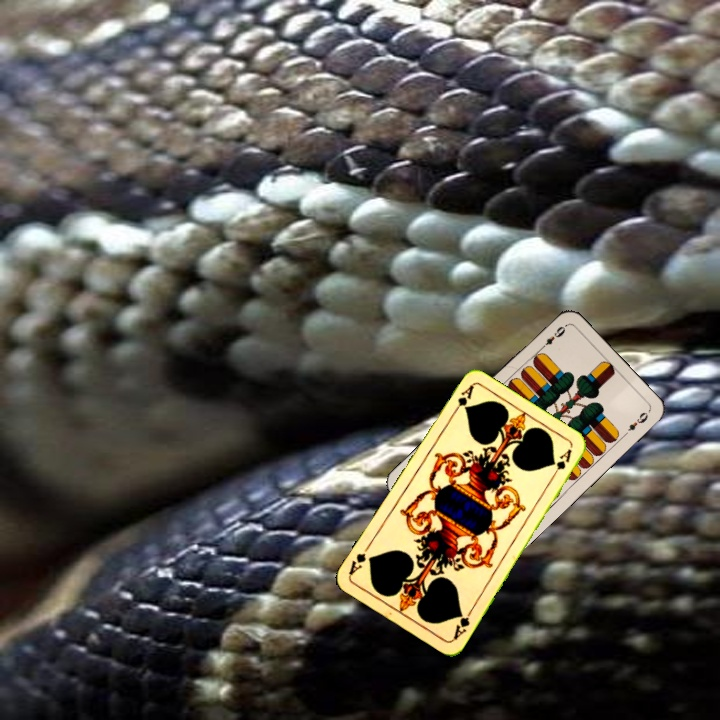E9: (536, 321, 569, 353)
GA: (448, 381, 476, 418), (449, 605, 475, 642)
